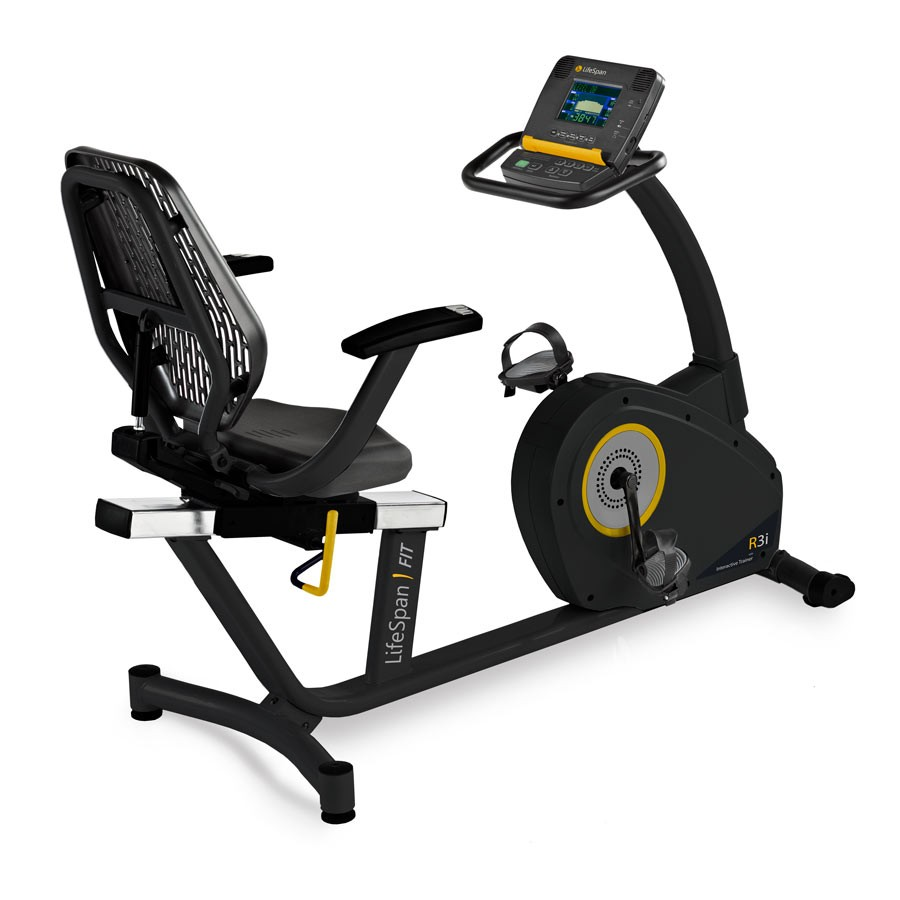gym_bike: (56, 54, 850, 794)
